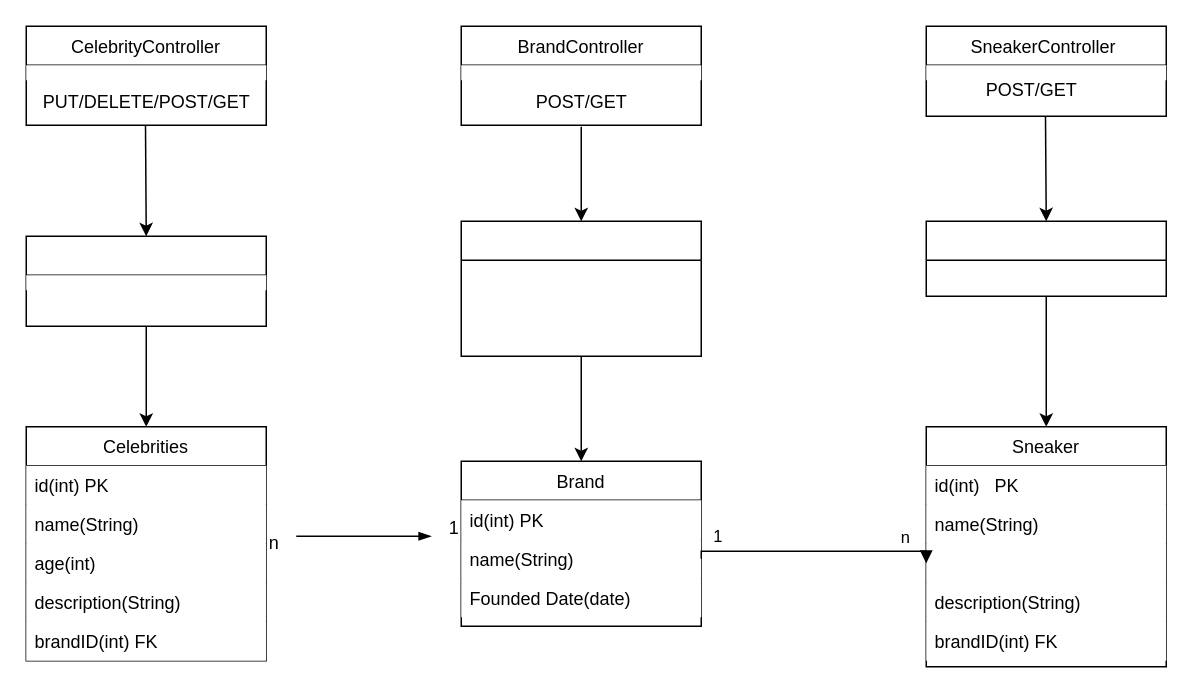
Image size: 1193x693. Some labels were removed from this diagram. The centre of each missing label's shape, as x and y in pixels:
"Brand Reposetory" belongs at point (580, 288).
"Celebrities Reposetory" belongs at point (145, 280).
"retailprice(Double)" belongs at point (1046, 562).
"Sneaker Reposetory" belongs at point (1045, 258).
